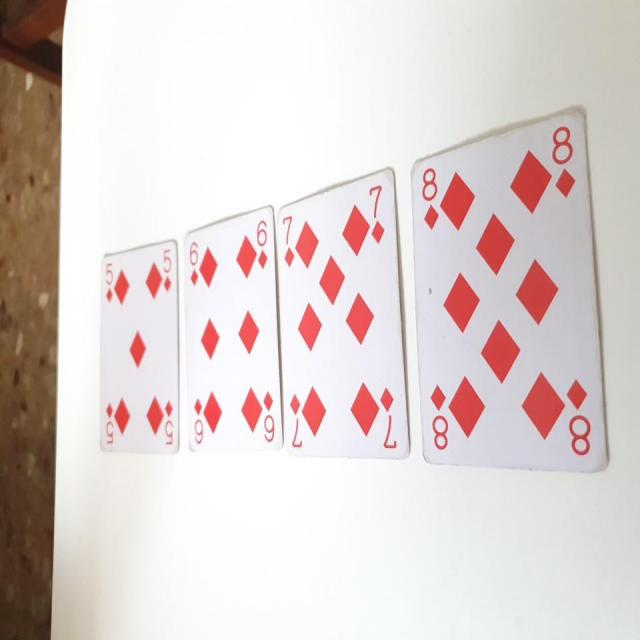5 Diamonds: (96, 238, 180, 457)
6 Diamonds: (182, 202, 284, 452)
7 Diamonds: (274, 162, 410, 460)
8 Diamonds: (409, 108, 610, 474)
